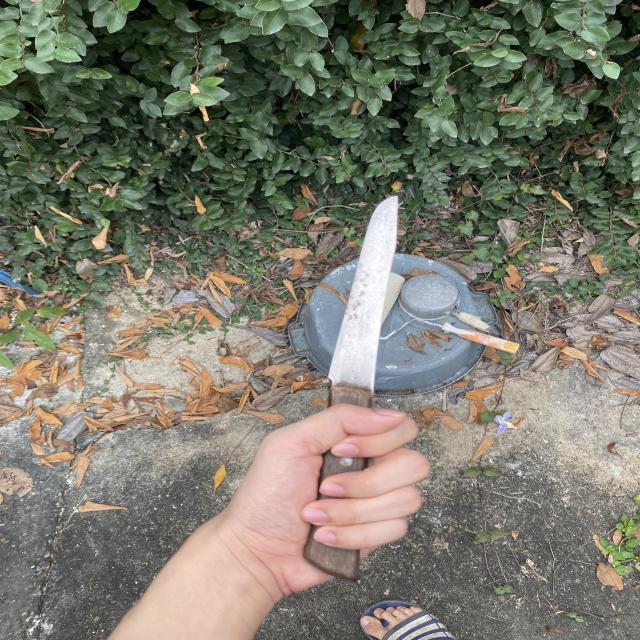faca: (188, 170, 456, 594)
